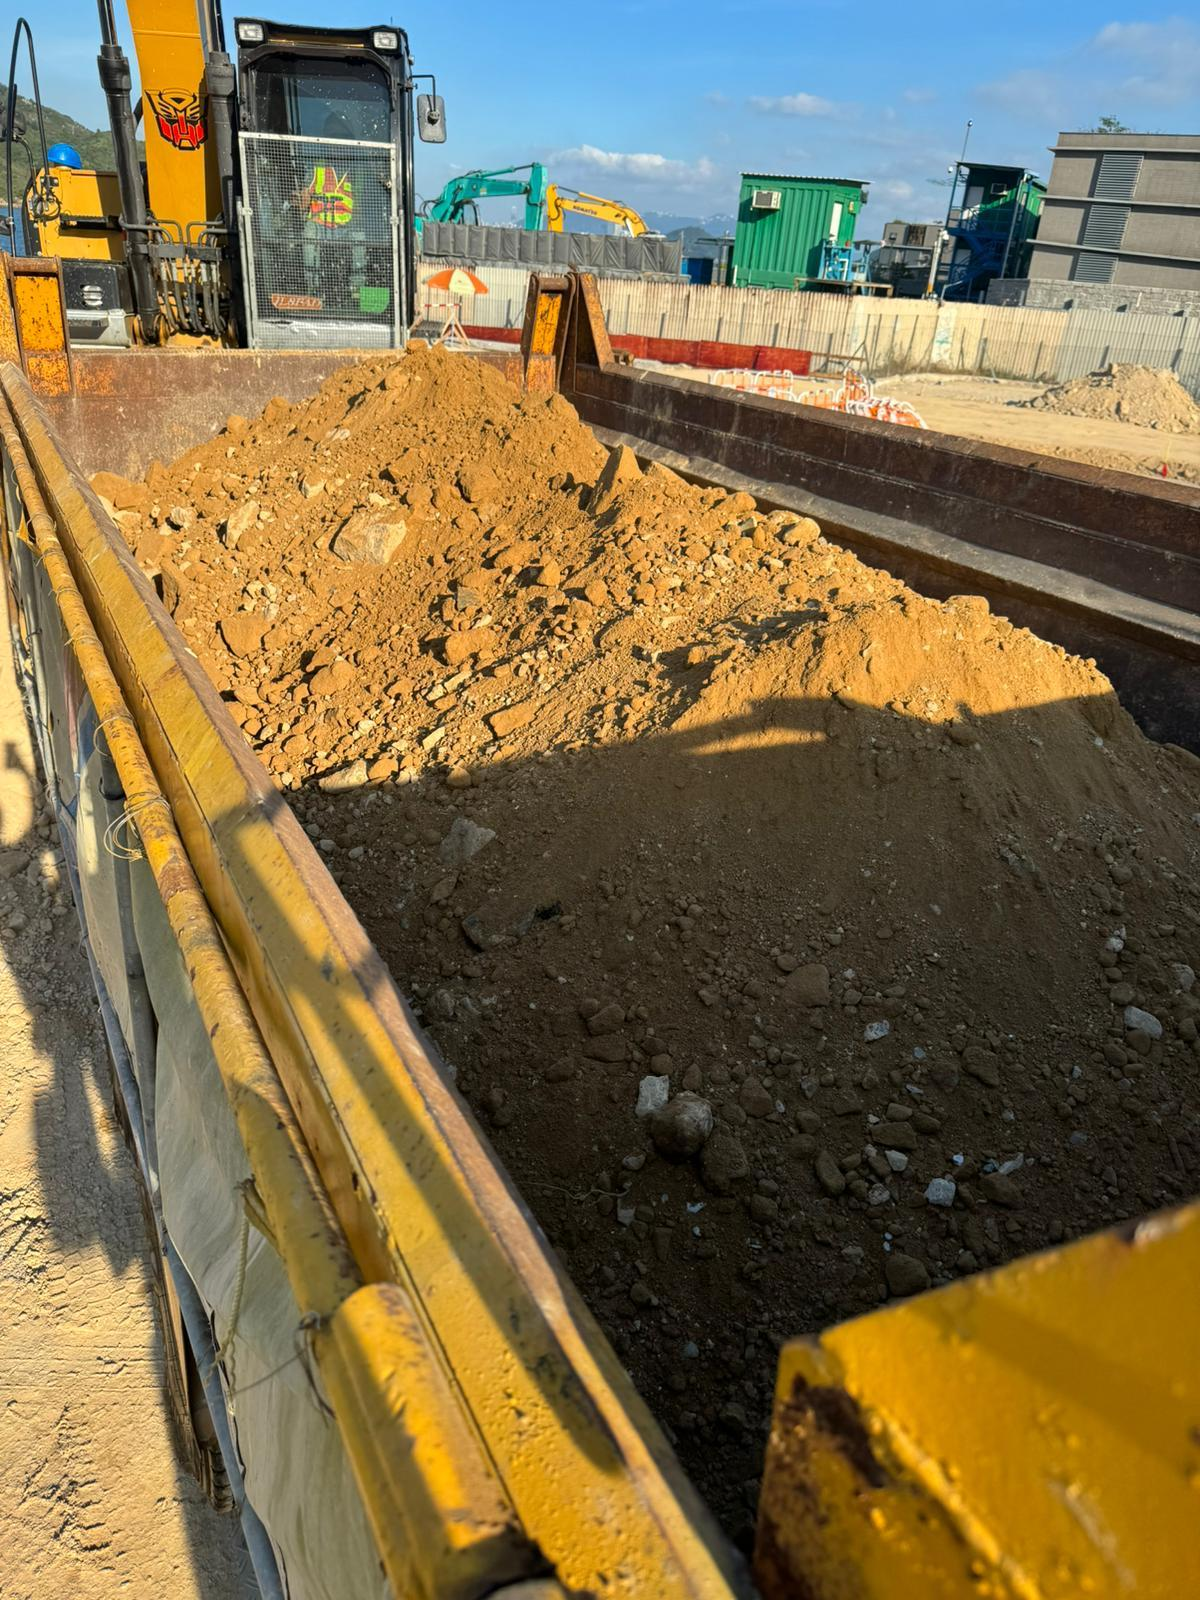dry: (77, 360, 1200, 1545)
